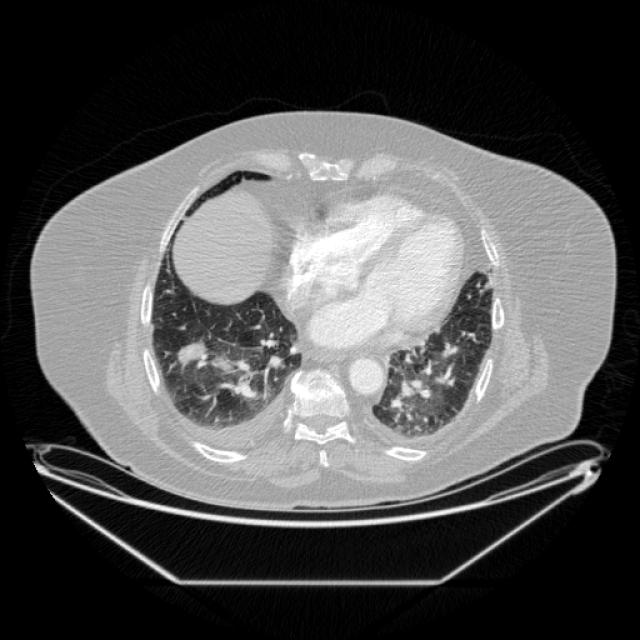nodule: (162, 321, 220, 379)
